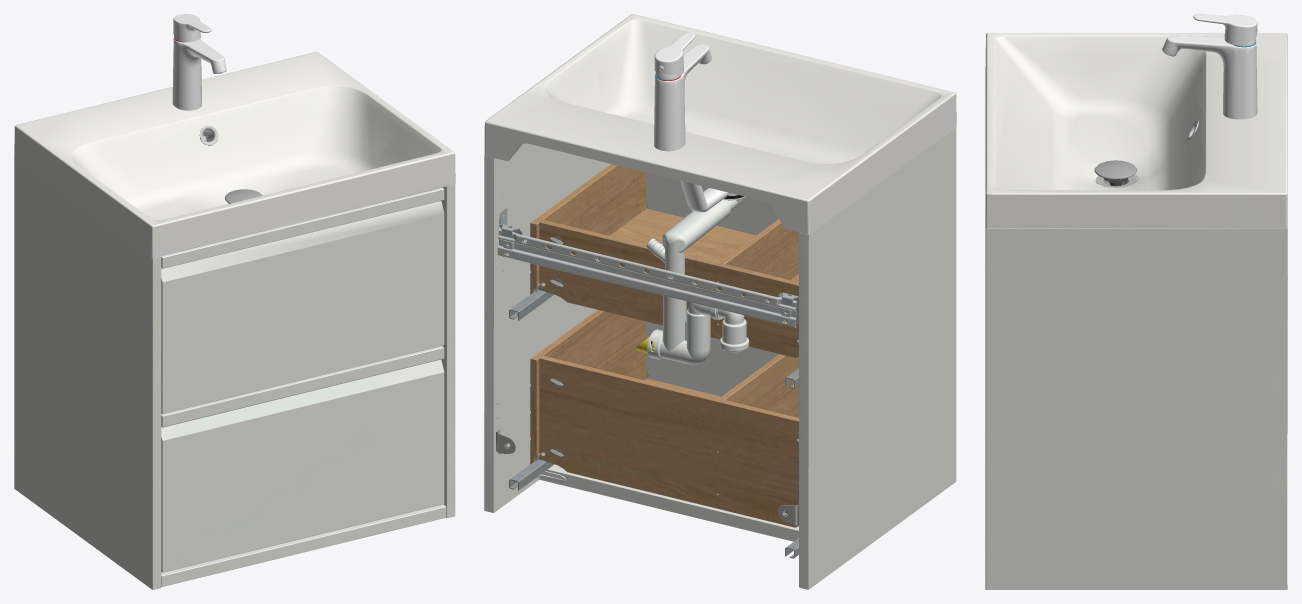
Rendered from ÄNGSJÖN - BACKSJÖN Meuble avec tiroirs-vasque-mitigeur brillant blanc 60x48x69 cm.glb.
3 views of the same model, side by side, from view 1: azimuth 30°, elevation 25°; view 2: azimuth 150°, elevation 25°; view 3: azimuth 270°, elevation 25° (orthographic). The views are drawn at different scales.
Visible parts, largest first — view 1: 30535086-Ãƒâ€žNGSJÃƒâ€“N001, model.001, 60343081_wash_basin_mixer_tap_with_strainer:1.001; view 2: 30535086-Ãƒâ€žNGSJÃƒâ€“N001, model.001, 1, 60343081_wash_basin_mixer_tap_with_strainer:1.001; view 3: 30535086-Ãƒâ€žNGSJÃƒâ€“N001, model.001, 60343081_wash_basin_mixer_tap_with_strainer:1.001.
Part boxes in pixels (<box>): 30535086-Ãƒâ€žNGSJÃƒâ€“N001: <box>14,158,455,589</box>; model.001: <box>14,52,455,257</box>; 60343081_wash_basin_mixer_tap_with_strainer:1.001: <box>172,14,226,110</box>; 30535086-Ãƒâ€žNGSJÃƒâ€“N001: <box>484,127,956,589</box>; model.001: <box>484,14,956,234</box>; 1: <box>635,195,749,364</box>; 60343081_wash_basin_mixer_tap_with_strainer:1.001: <box>654,32,711,151</box>; 30535086-Ãƒâ€žNGSJÃƒâ€“N001: <box>985,228,1287,589</box>; model.001: <box>985,33,1287,228</box>; 60343081_wash_basin_mixer_tap_with_strainer:1.001: <box>1162,14,1257,119</box>.
Size of the model in its own units: 0.602 by 0.8566 by 0.475.
8 materials, 4 textured.
